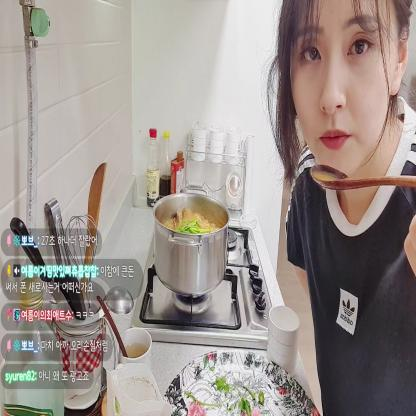streamer: (261, 0, 415, 416)
